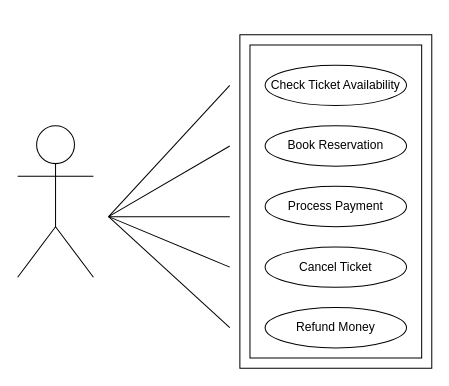
The diagram is 449 pixels wide and 386 high, and some of its shapes have lost their labels. The shapes that lost their labels are listed below. From the top down, each one's box as (x1, y1, x2, y2) in pixels, then its label:
(17, 125, 93, 277): Customer
(239, 34, 432, 368): Airline Reservation System
